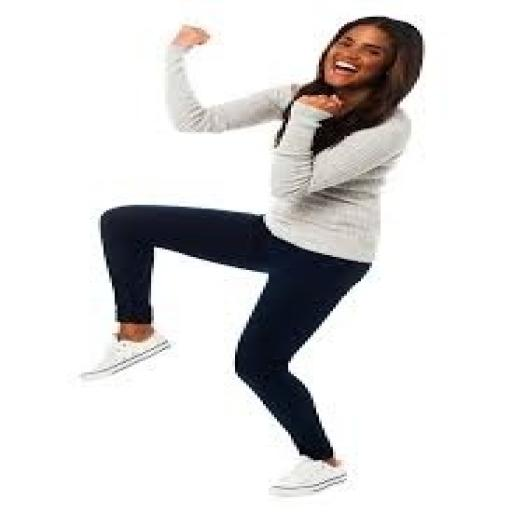dancing: (76, 13, 428, 497)
